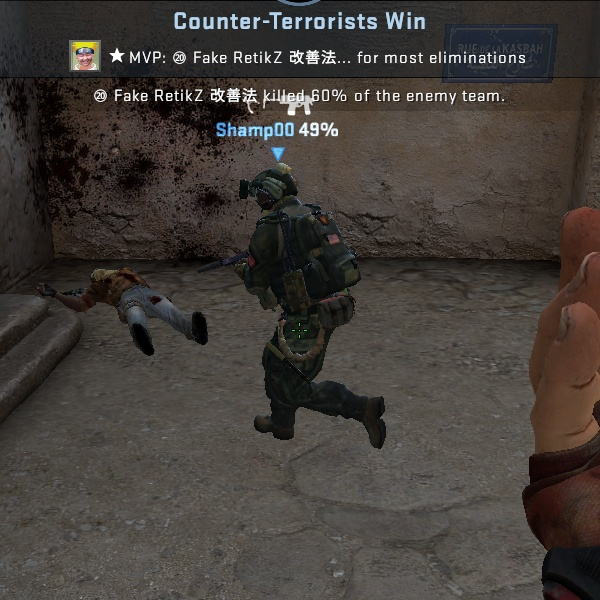ct_body: (210, 156, 376, 449)
ct_head: (240, 160, 305, 222)
